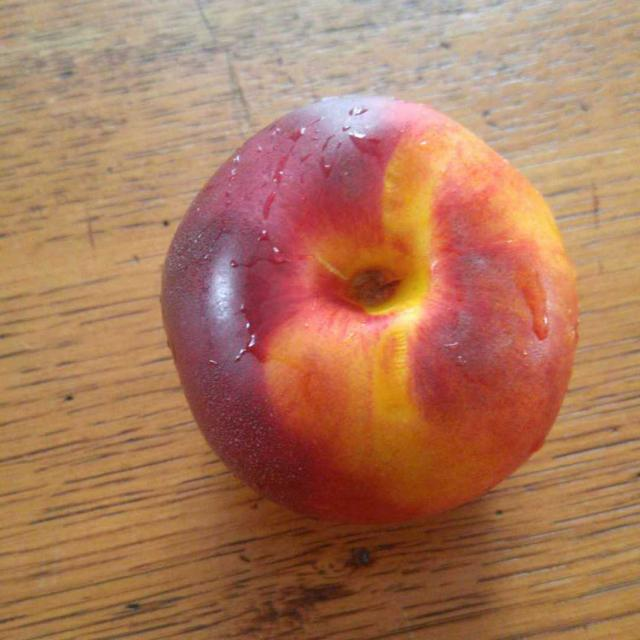nectarine: (165, 107, 578, 522)
